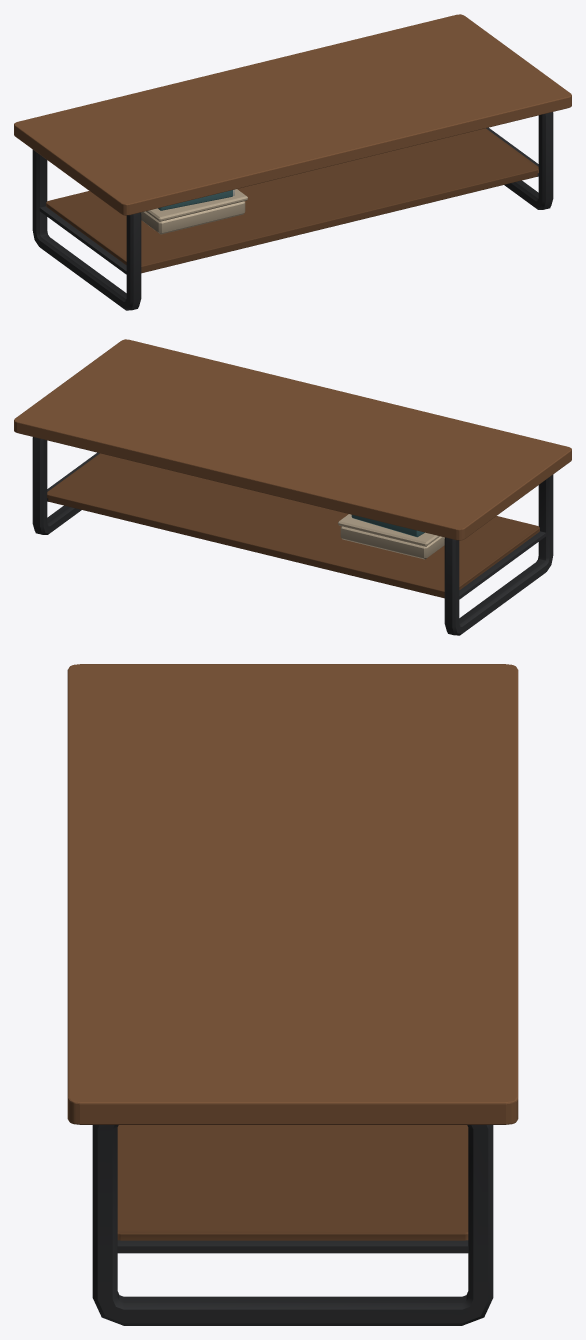
Rendered from coffeeTableLong.glb.
The picture shows the model from 3 angles, top to bottom: view 1: azimuth 30°, elevation 25°; view 2: azimuth 150°, elevation 25°; view 3: azimuth 270°, elevation 25°; orthographic projection. The views are drawn at different scales.
Parts seen in each view (by area): view 1: coffeeTableLong; view 2: coffeeTableLong; view 3: coffeeTableLong.
Boxes of the visible parts, x1=… form: coffeeTableLong: x1=14, y1=14, x2=571, y2=310; coffeeTableLong: x1=14, y1=339, x2=571, y2=635; coffeeTableLong: x1=67, y1=664, x2=518, y2=1325.
Bounding box in the file's own units: 1.66 × 0.42 × 0.72.
